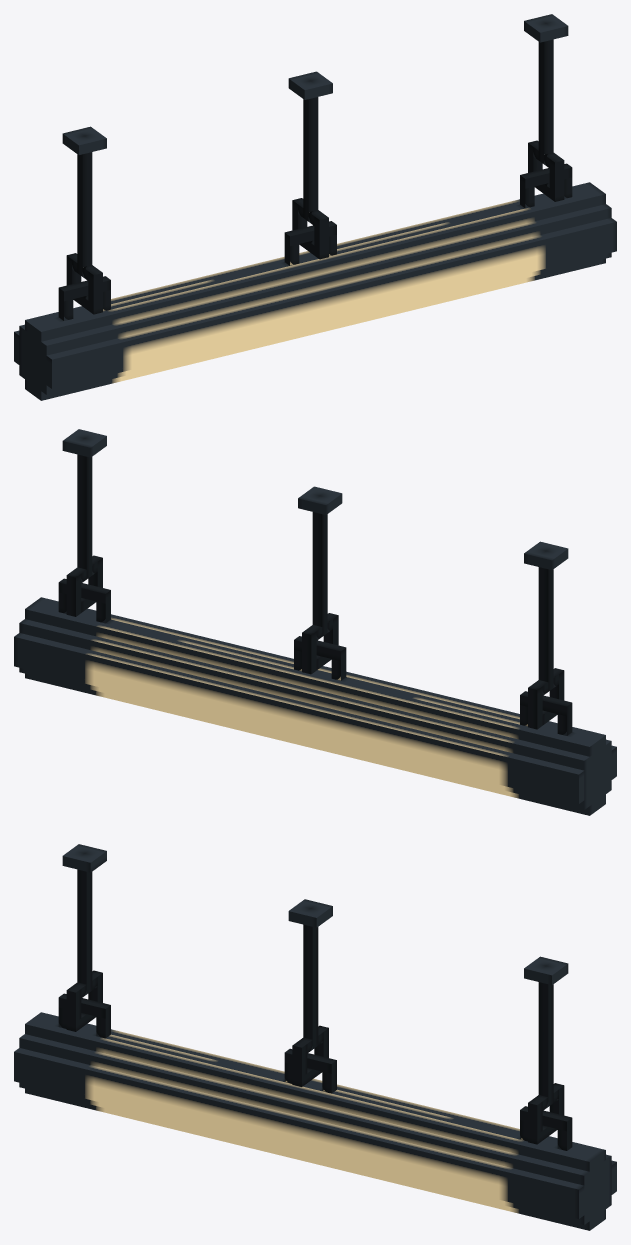
Rendered from lampa_1.dae.
The picture shows the model from 3 angles, top to bottom: view 1: azimuth 30°, elevation 25°; view 2: azimuth 150°, elevation 25°; view 3: azimuth 330°, elevation 25°; orthographic projection.
Parts seen in each view (by area): view 1: Content; view 2: Content; view 3: Content.
Part boxes in pixels (x1,y1,x2,y2): Content: (14, 14, 616, 400); Content: (14, 429, 616, 815); Content: (14, 844, 616, 1230).
Bounding box in the file's own units: 60 × 25 × 7.
Materials: 1 (1 with a texture image).
